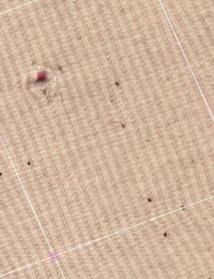hole: (24, 61, 64, 97)
stain: (110, 115, 137, 140), (156, 226, 183, 249), (102, 74, 130, 94), (139, 189, 161, 211), (19, 157, 39, 179)
